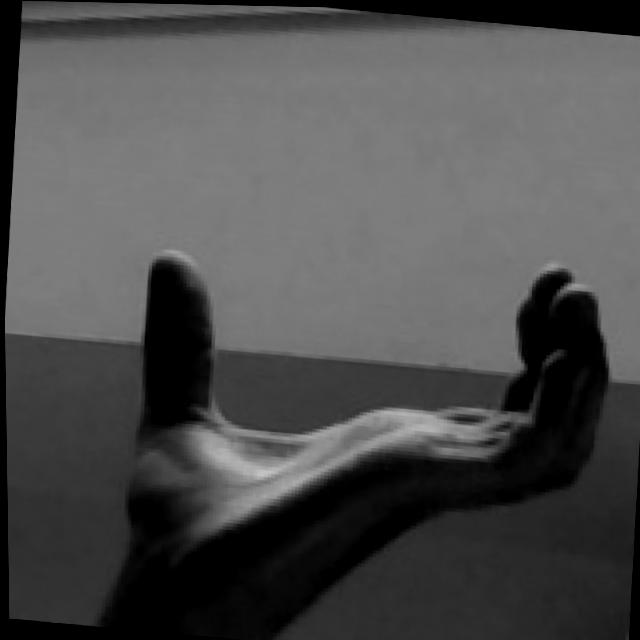space: (116, 219, 621, 635)
